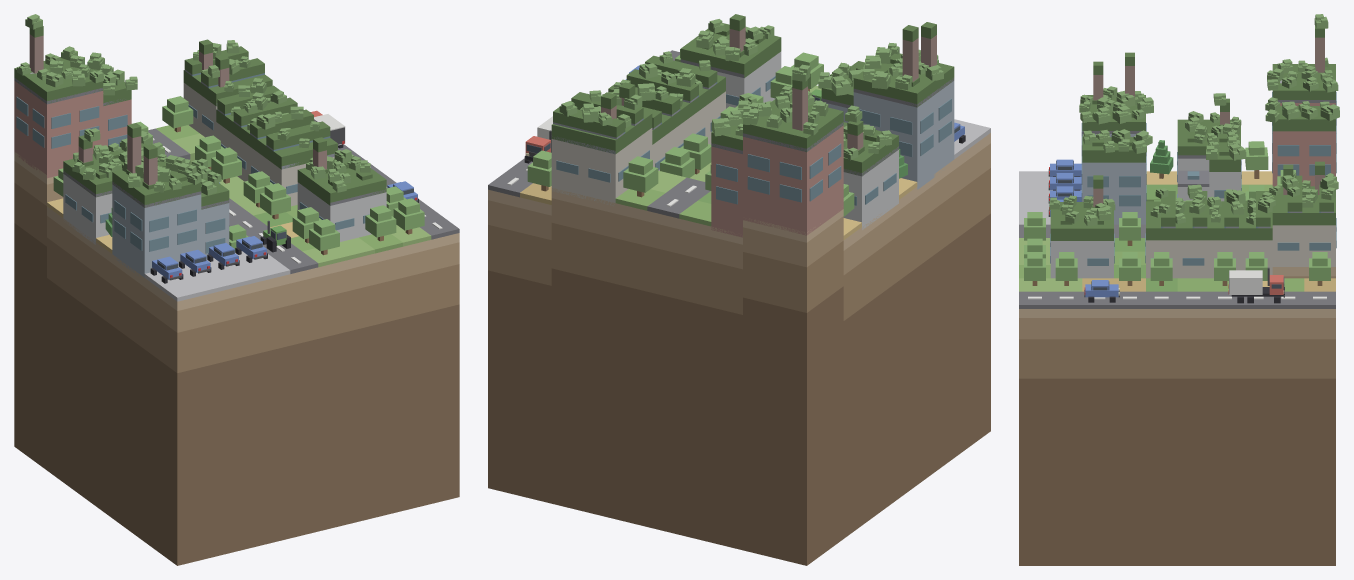
The model's file is block_9_greenroof_50.glb.
3 renders of one model, left to right at view 1: azimuth 30°, elevation 25°; view 2: azimuth 150°, elevation 25°; view 3: azimuth 270°, elevation 25°, orthographic. The views are drawn at different scales.
Visible parts, largest first — view 1: Patch_LowerLeft_b09_GR, Factories_LowerLeft_b09_GR, GR_Roof_Factories_LowerLeft_b09_GR, Ground_LowerLeft_b09_GR, Parking_LowerLeft_b09_GR, Roads_LowerLeft_b09_GR, Asset_Tree_Round.001_GR, Asset_Tree_Round.022_GR, Asset_Tree_Round.013_GR, Asset_Tree_Round.021_GR, Asset_Tree_Round.023_GR, Asset_Tree_Round.007_GR (+7 smaller); view 2: Patch_LowerLeft_b09_GR, Factories_LowerLeft_b09_GR, GR_Roof_Factories_LowerLeft_b09_GR, Ground_LowerLeft_b09_GR, Roads_LowerLeft_b09_GR, Asset_Tree_Round.001_GR, Asset_Tree_Round.005_GR, Asset_Tree_Round.002_GR, Asset_Tree_Round.007_GR, Asset_Truck.001_GR, Parking_LowerLeft_b09_GR; view 3: Patch_LowerLeft_b09_GR, Factories_LowerLeft_b09_GR, GR_Roof_Factories_LowerLeft_b09_GR, Ground_LowerLeft_b09_GR, Roads_LowerLeft_b09_GR, Asset_Truck.001_GR, Parking_LowerLeft_b09_GR, Asset_Tree_Round.020_GR, Asset_Tree_Round.012_GR, Asset_Tree_Round.018_GR, Asset_Car.002_GR, Asset_Tree_Round.002_GR (+10 smaller).
Boxes of the visible parts, x1,y1,x2,y2 form: Patch_LowerLeft_b09_GR: [14, 152, 459, 565]; Factories_LowerLeft_b09_GR: [14, 34, 386, 277]; GR_Roof_Factories_LowerLeft_b09_GR: [14, 26, 386, 209]; Ground_LowerLeft_b09_GR: [47, 125, 431, 267]; Parking_LowerLeft_b09_GR: [144, 251, 290, 301]; Roads_LowerLeft_b09_GR: [148, 128, 459, 273]; Asset_Tree_Round.001_GR: [162, 96, 193, 132]; Asset_Tree_Round.022_GR: [365, 205, 396, 241]; Asset_Tree_Round.013_GR: [260, 183, 290, 219]; Asset_Tree_Round.021_GR: [309, 219, 339, 255]; Asset_Tree_Round.023_GR: [393, 198, 424, 234]; Asset_Tree_Round.007_GR: [211, 147, 241, 183]; Patch_LowerLeft_b09_GR: [488, 133, 990, 565]; Factories_LowerLeft_b09_GR: [551, 27, 954, 237]; GR_Roof_Factories_LowerLeft_b09_GR: [551, 14, 954, 175]; Ground_LowerLeft_b09_GR: [520, 85, 917, 239]; Roads_LowerLeft_b09_GR: [488, 50, 710, 218]; Asset_Tree_Round.001_GR: [623, 156, 658, 197]; Asset_Tree_Round.005_GR: [660, 147, 694, 177]; Asset_Tree_Round.002_GR: [527, 150, 551, 191]; Asset_Tree_Round.007_GR: [680, 133, 711, 174]; Asset_Truck.001_GR: [524, 116, 552, 163]; Parking_LowerLeft_b09_GR: [954, 119, 990, 158]; Patch_LowerLeft_b09_GR: [1019, 267, 1335, 565]; Factories_LowerLeft_b09_GR: [1050, 37, 1336, 278]; GR_Roof_Factories_LowerLeft_b09_GR: [1050, 25, 1335, 240]; Ground_LowerLeft_b09_GR: [1019, 171, 1335, 291]; Roads_LowerLeft_b09_GR: [1019, 224, 1335, 308]; Asset_Truck.001_GR: [1228, 267, 1284, 303]; Parking_LowerLeft_b09_GR: [1019, 171, 1081, 224]; Asset_Tree_Round.020_GR: [1245, 141, 1268, 178]; Asset_Tree_Round.012_GR: [1150, 252, 1172, 285]; Asset_Tree_Round.018_GR: [1055, 252, 1077, 285]; Asset_Car.002_GR: [1084, 280, 1119, 302]; Asset_Tree_Round.002_GR: [1309, 252, 1330, 285].
Size of the model in its own units: 9.62 by 13.93 by 9.62.
